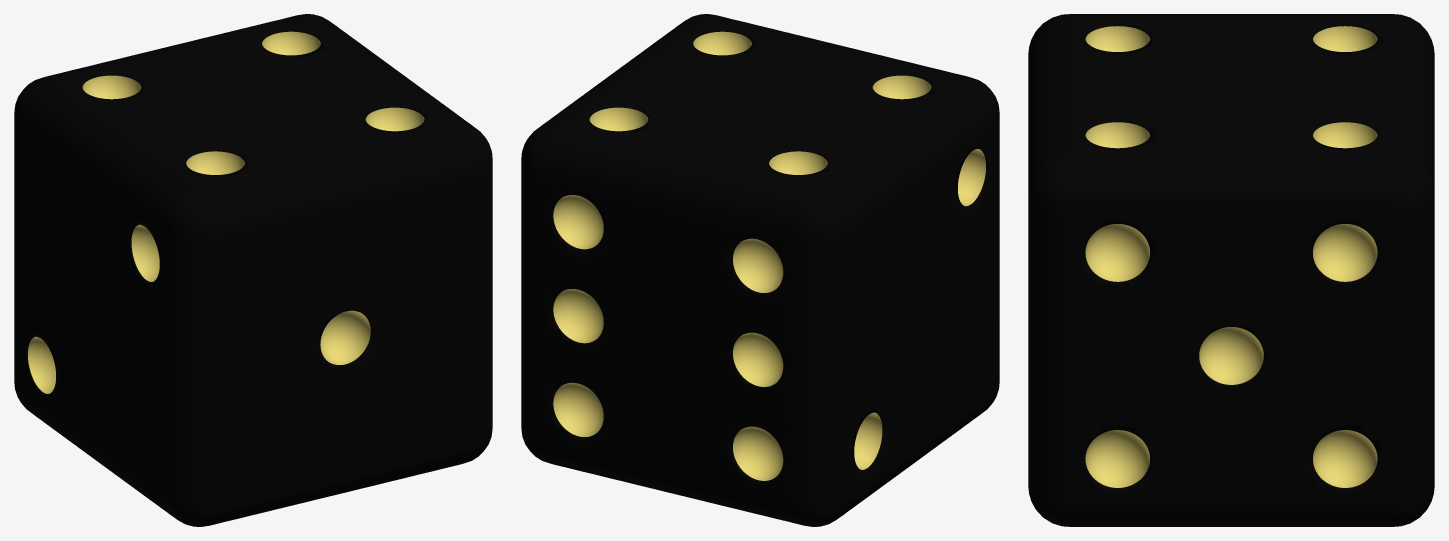
The model's file is _ice.fbx.
3 renders of one model, left to right at view 1: azimuth 30°, elevation 25°; view 2: azimuth 150°, elevation 25°; view 3: azimuth 270°, elevation 25°, orthographic. The views are drawn at different scales.
Visible parts, largest first — view 1: Icosphere; view 2: Icosphere; view 3: Icosphere.
Part boxes in pixels (x1,y1,x2,y2): Icosphere: (14, 14, 492, 526); Icosphere: (521, 14, 999, 526); Icosphere: (1028, 14, 1434, 526).
Bounding box in the file's own units: 250 × 250 × 250.
